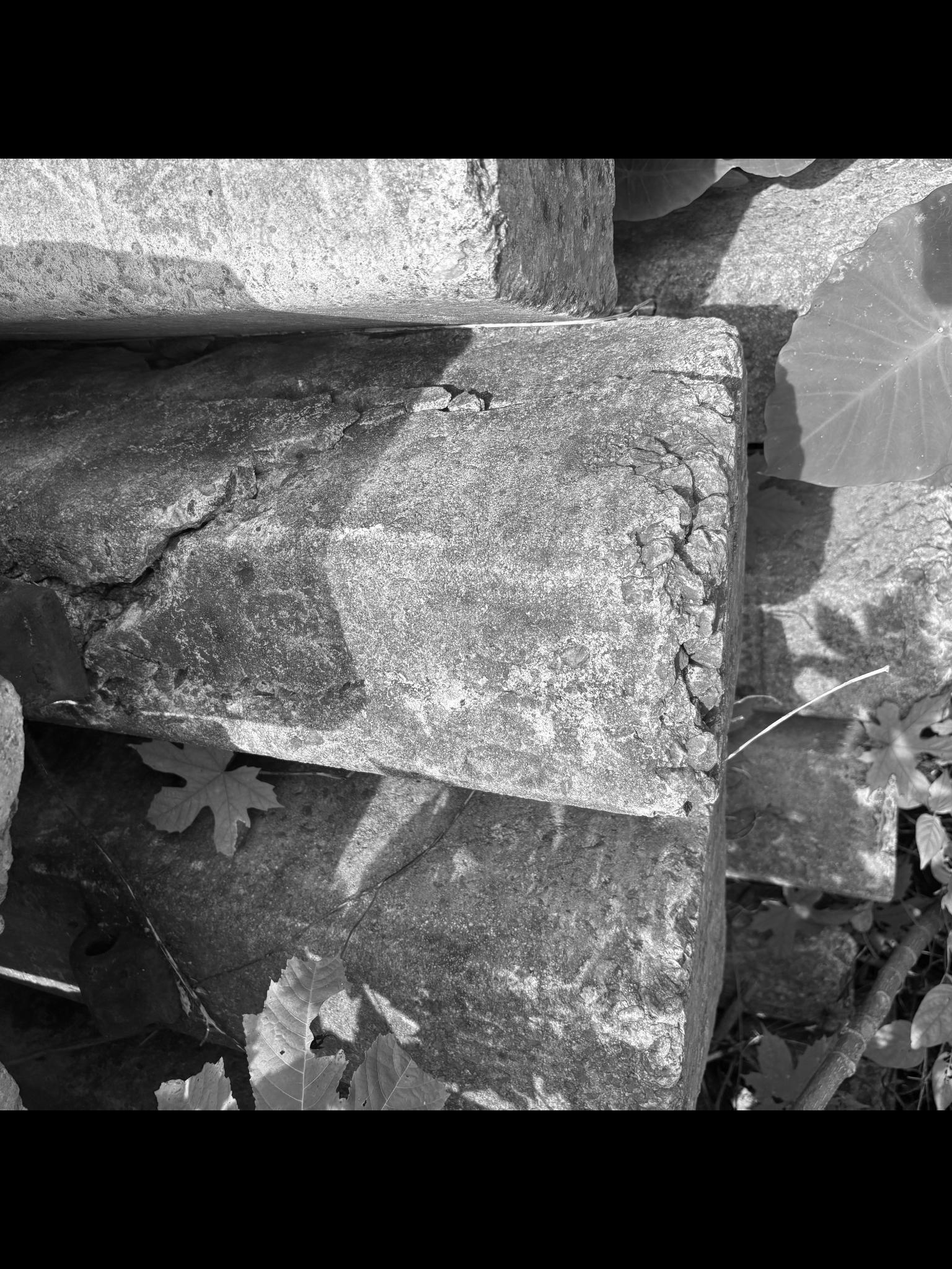cracks under rail seat: (0, 288, 499, 707)
